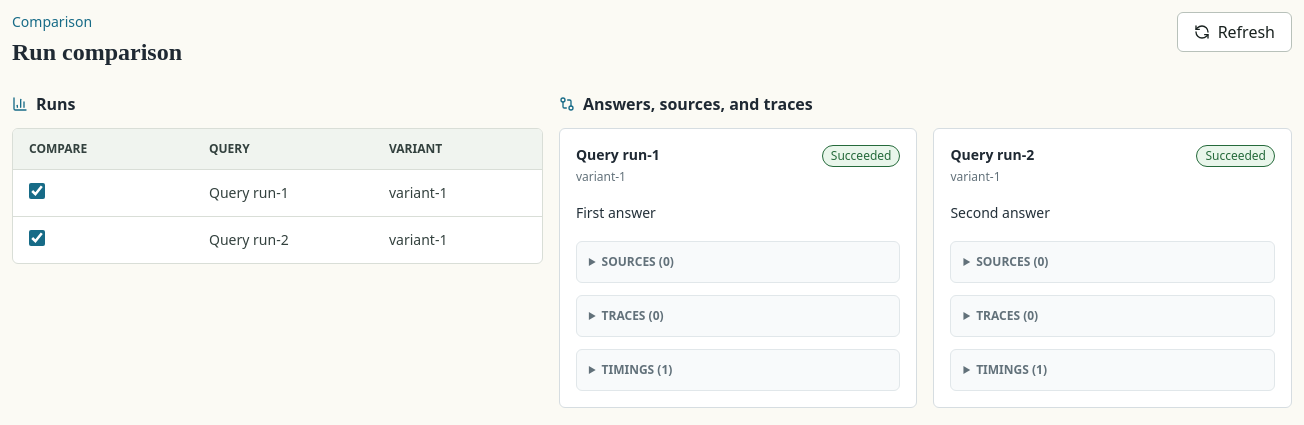
Test: ComparisonPage › shows no-selection state after the user clears the default comparison
expect the text "First answer" is shown: met, box [576,203,656,222]
expect the text "Second answer" is shown: met, box [950,203,1050,222]
What coordinates should you click on to do the following:
click the checkbox named "Compare run run-1"
I would click on:
 (37, 190)
Its box is [29,182,45,198].
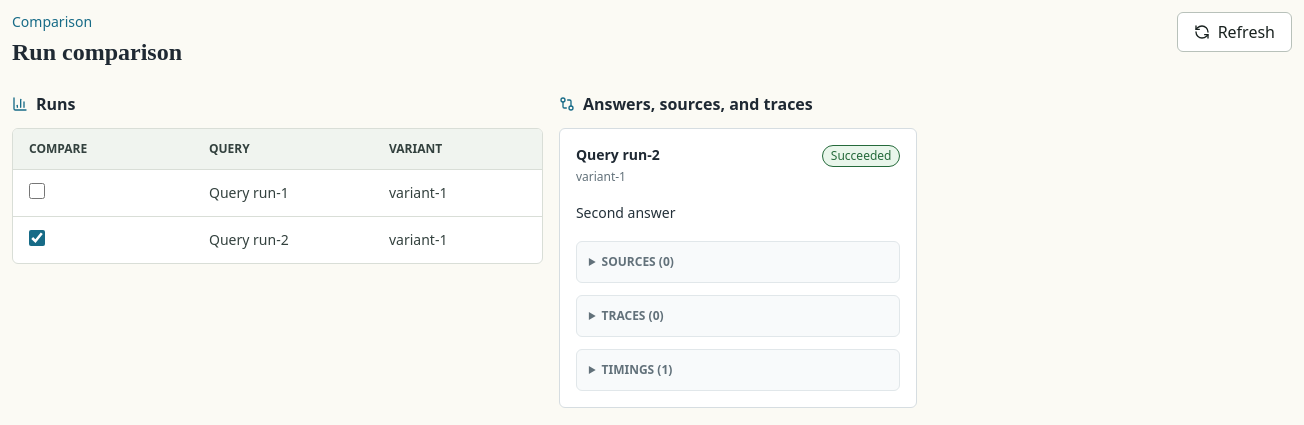
What coordinates should you click on to do the following:
click the checkbox named "Compare run run-2"
I would click on:
 (37, 238)
Its box is [29,230,45,246].
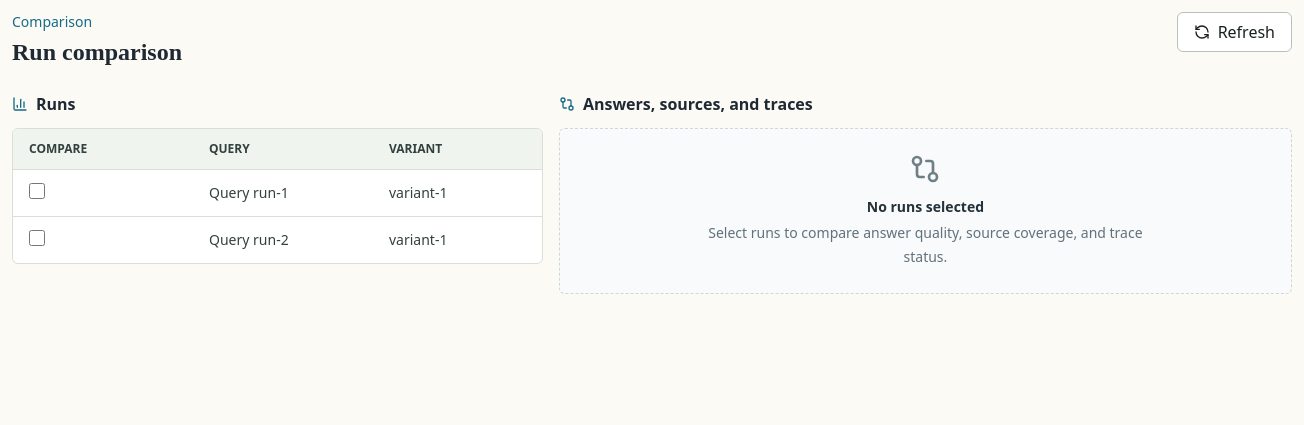
expect the text "First answer" is not shown: met
expect the heading "No runs selected" is shown: met, box [867,197,984,217]
expect the text "Second answer" is gone: met
